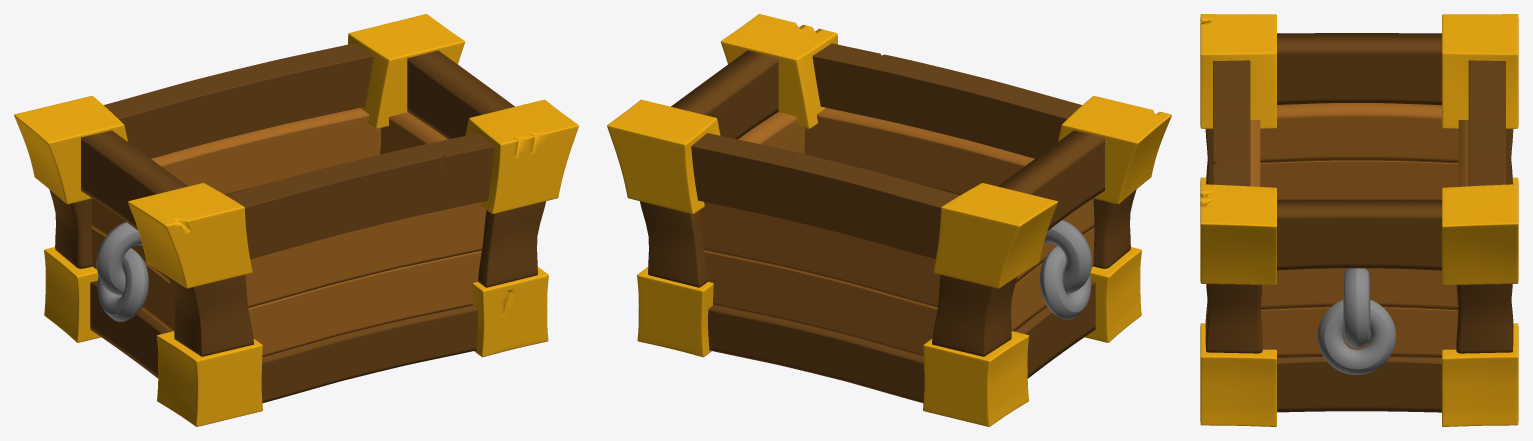
The model's file is chest_bottom_empty.glb.
3 views of the same model, side by side, from view 1: azimuth 30°, elevation 25°; view 2: azimuth 150°, elevation 25°; view 3: azimuth 270°, elevation 25° (orthographic). The views are drawn at different scales.
Parts seen in each view (by area): view 1: Cube.009; view 2: Cube.009; view 3: Cube.009.
Part boxes in pixels (x1,y1,x2,y2): Cube.009: (14,14,578,426); Cube.009: (607,14,1171,426); Cube.009: (1200,14,1518,426).
Size of the model in its own units: 1.15 by 0.5503 by 0.7287.
